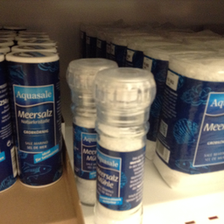spices: (95, 67, 157, 224), (155, 51, 224, 189), (5, 49, 62, 187), (66, 58, 113, 205)
